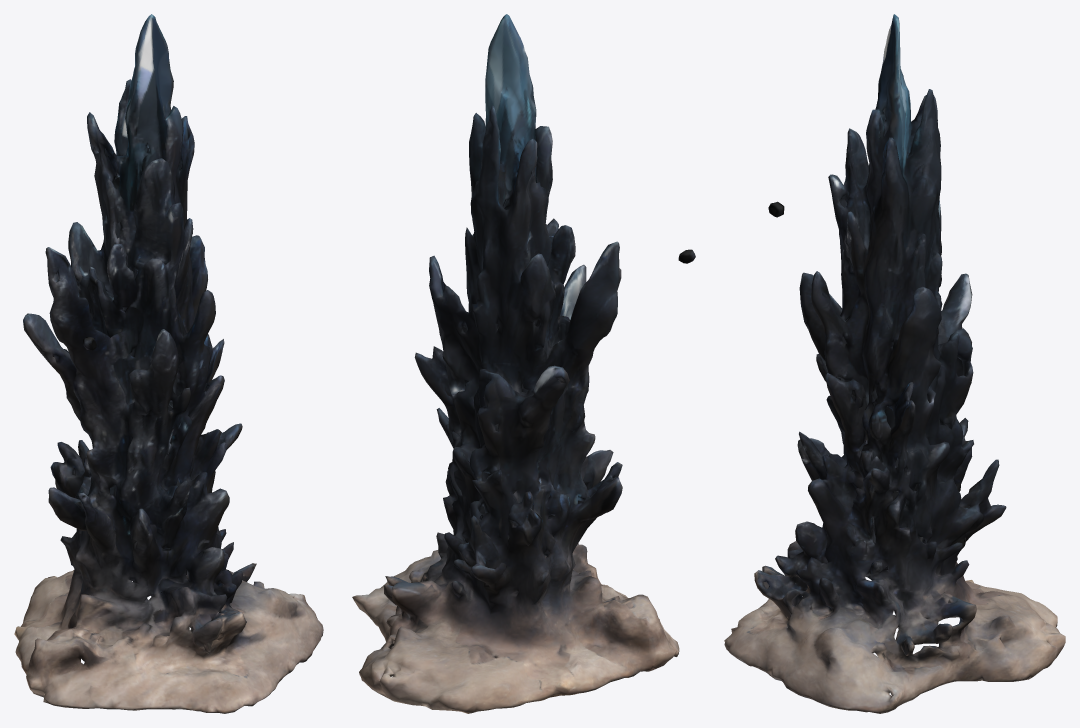
The model's file is AI_SpireTree.fbx.
3 renders of one model, left to right at view 1: azimuth 30°, elevation 25°; view 2: azimuth 150°, elevation 25°; view 3: azimuth 270°, elevation 25°, orthographic.
Visible parts, largest first — view 1: Mesh1.0; view 2: Mesh1.0; view 3: Mesh1.0.
Part boxes in pixels (box(x1,y1,x2,y2)): Mesh1.0: box(14, 14, 323, 713); Mesh1.0: box(352, 14, 695, 713); Mesh1.0: box(724, 14, 1065, 713).
Bounding box in the file's own units: 98.12 × 200 × 98.18.
Materials: 1 (1 with a texture image).
